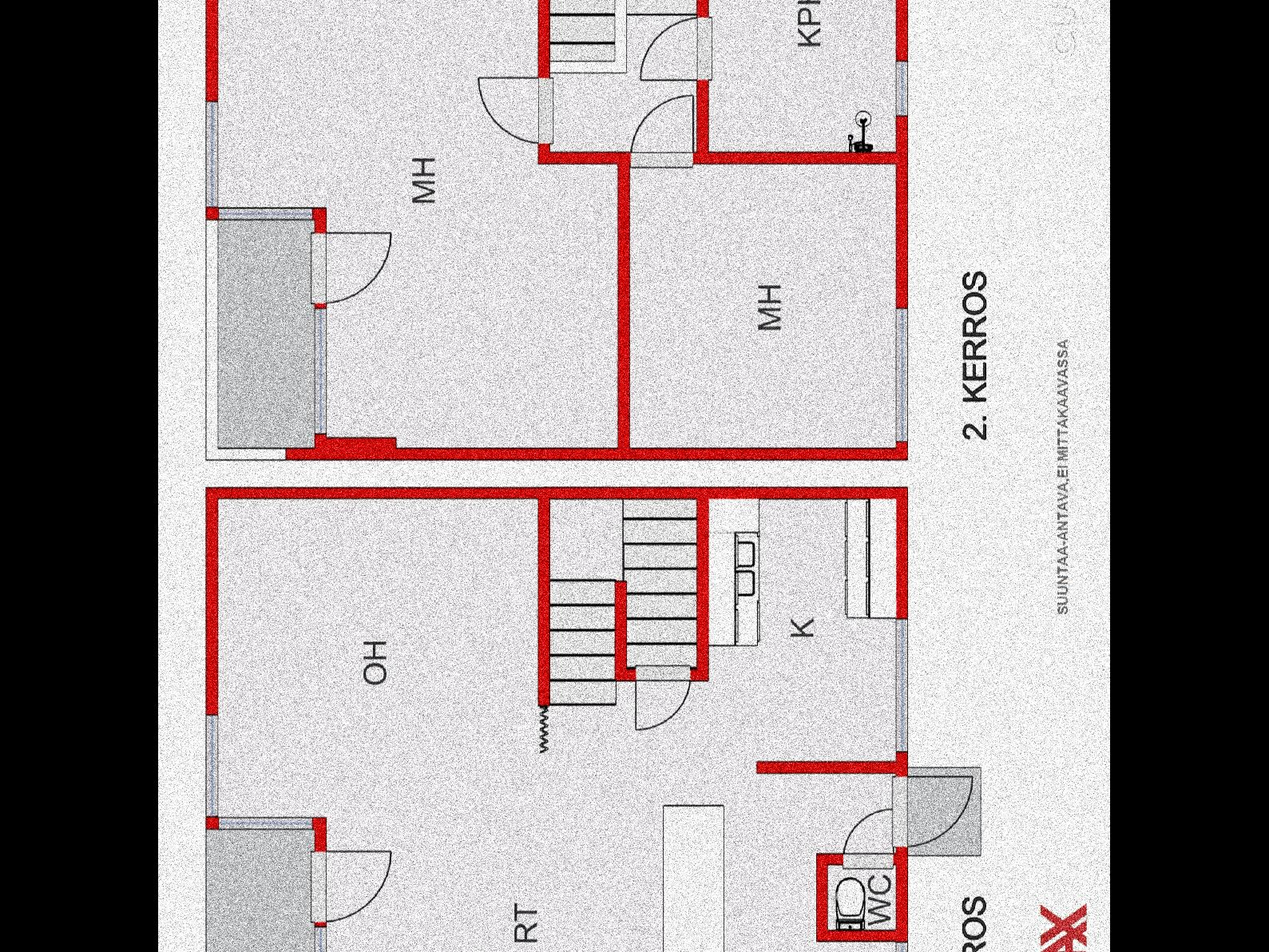door: (220, 501, 894, 952), (219, 0, 617, 449), (630, 163, 893, 448), (708, 0, 896, 151), (547, 0, 695, 155), (825, 861, 892, 932)
window: (310, 224, 396, 309), (309, 845, 397, 925), (890, 770, 978, 850), (475, 71, 555, 145), (634, 12, 714, 83), (630, 92, 698, 167), (635, 665, 692, 730), (843, 805, 893, 872)
zone: (202, 715, 225, 813), (893, 309, 909, 438), (896, 617, 911, 750), (312, 310, 327, 433), (205, 103, 223, 202), (218, 206, 311, 222), (220, 817, 312, 828), (896, 63, 911, 117), (311, 927, 326, 952)
